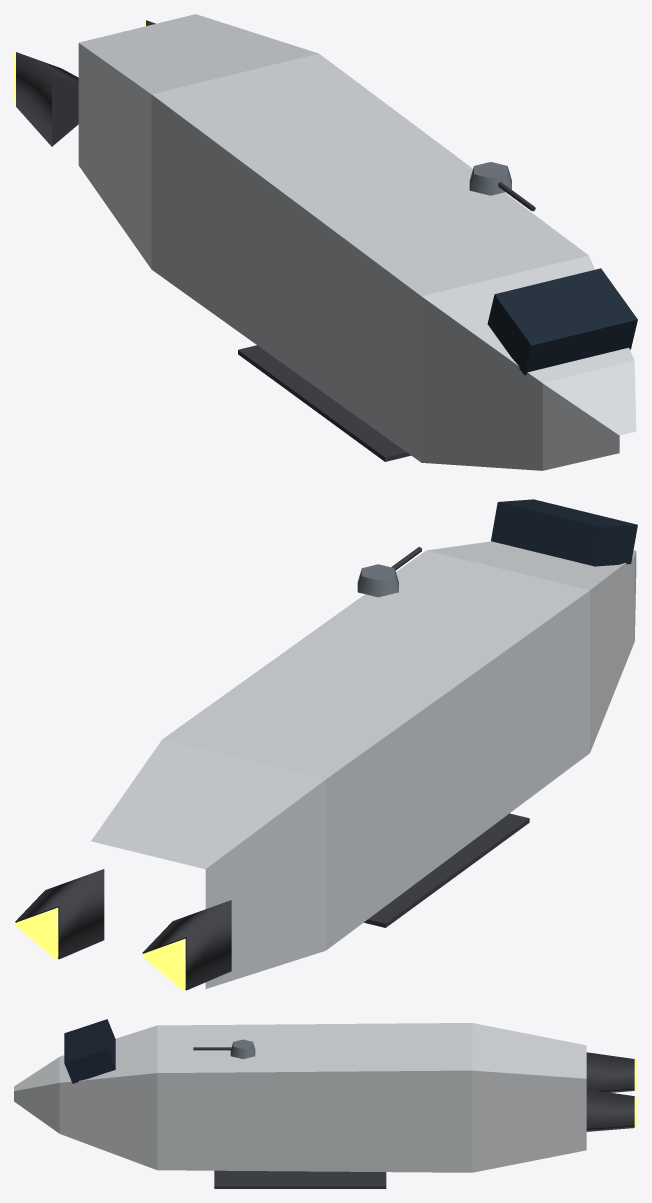
Rendered from space_ship_transport_mk2_lod2.glb.
The picture shows the model from 3 angles, top to bottom: view 1: azimuth 30°, elevation 25°; view 2: azimuth 150°, elevation 25°; view 3: azimuth 270°, elevation 25°; orthographic projection. The views are drawn at different scales.
Parts seen in each view (by area): view 1: body, engine_1, hangar_door, turret_0; view 2: body, engine_0, engine_1, hangar_door, turret_0; view 3: body, hangar_door, engine_0, engine_1, turret_0.
Boxes of the visible parts, box(x1,y1,x2,y2) form: body: box(78, 14, 637, 470); engine_1: box(14, 51, 78, 146); hangar_door: box(238, 345, 410, 461); turret_0: box(469, 162, 535, 211); body: box(91, 499, 637, 988); engine_0: box(14, 869, 104, 959); engine_1: box(141, 900, 231, 990); hangar_door: box(364, 813, 529, 927); turret_0: box(357, 547, 421, 597); body: box(14, 1019, 586, 1172); hangar_door: box(214, 1170, 386, 1188); engine_0: box(586, 1089, 637, 1131); engine_1: box(586, 1052, 637, 1092); turret_0: box(193, 1039, 255, 1059).
Bounding box in the file's own units: 4.52 × 5.49 × 21.96.
